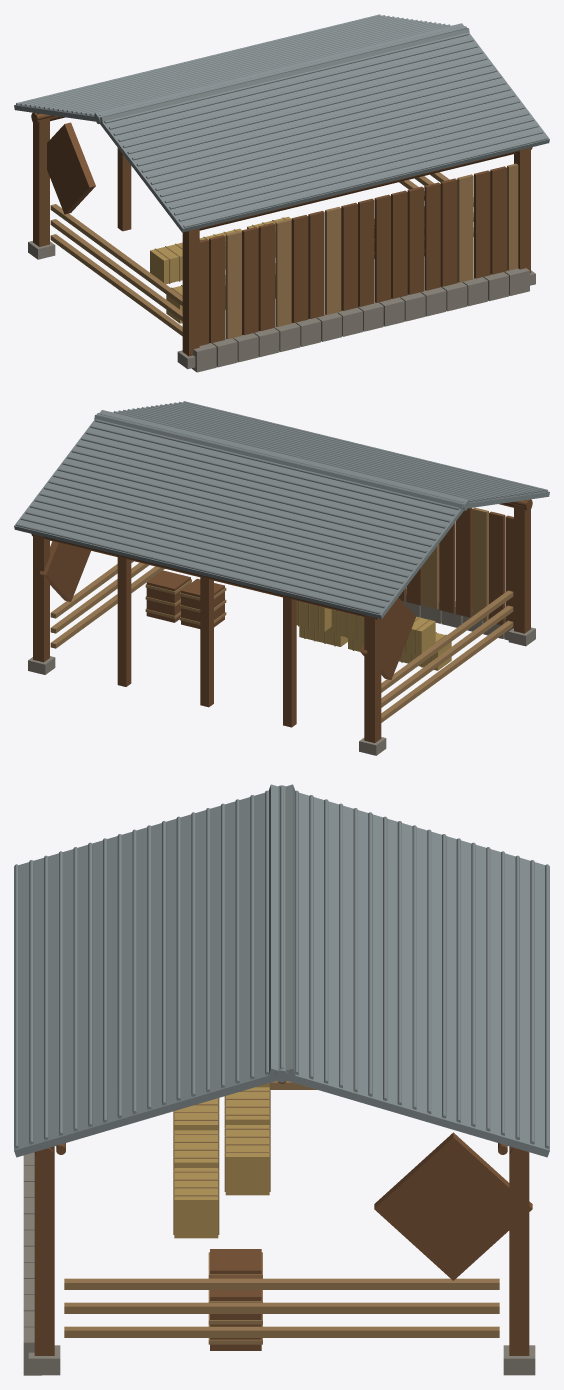
File: galpao.glb
The picture shows the model from 3 angles, top to bottom: view 1: azimuth 30°, elevation 25°; view 2: azimuth 150°, elevation 25°; view 3: azimuth 270°, elevation 25°; orthographic projection. The views are drawn at different scales.
Parts seen in each view (by area): view 1: Painel de cobertura metálica, Mão francesa, Painel de cobertura metálica.001, Pilar estrutural do galpão, Pilar estrutural do galpão.001, Tábua vertical do fundo.015, Tábua vertical do fundo.006, Tábua vertical do fundo.018, Tábua vertical do fundo.010, Tábua vertical do fundo.002, Tábua vertical do fundo.013, Tábua vertical do fundo.003 (+72 smaller); view 2: Painel de cobertura metálica.001, Painel de cobertura metálica, Pilar estrutural do galpão.001, Pilar estrutural do galpão, Pilar estrutural do galpão.003, Pilar frontal.002, Mão francesa, Mão francesa.001, Pilar frontal.001, Pilar frontal, Tábua vertical do fundo.002, Tábua vertical do fundo.003 (+55 smaller); view 3: Painel de cobertura metálica, Painel de cobertura metálica.001, Mão francesa.001, Ripa lateral.003, Ripa lateral.004, Ripa lateral.005, Pilar estrutural do galpão.002, Pilar estrutural do galpão.003, Fardo de feno.002, Fardo de feno.005, Caixa de madeira.001, Fardo de feno.001 (+43 smaller).
Part boxes in pixels (x1,y1,x2,y2): Painel de cobertura metálica: (94, 23, 549, 232); Mão francesa: (47, 122, 95, 214); Painel de cobertura metálica.001: (14, 16, 469, 122); Pilar estrutural do galpão: (182, 228, 199, 356); Pilar estrutural do galpão.001: (33, 113, 49, 246); Tábua vertical do fundo.015: (440, 178, 457, 287); Tábua vertical do fundo.006: (291, 215, 308, 323); Tábua vertical do fundo.018: (490, 166, 506, 274); Tábua vertical do fundo.010: (358, 198, 374, 307); Tábua vertical do fundo.002: (225, 231, 241, 339); Tábua vertical do fundo.013: (407, 186, 423, 294); Tábua vertical do fundo.003: (242, 227, 258, 335); Painel de cobertura metálica.001: (14, 410, 469, 619); Painel de cobertura metálica: (94, 403, 549, 509); Pilar estrutural do galpão.001: (364, 615, 381, 742); Pilar estrutural do galpão: (514, 500, 530, 633); Pilar estrutural do galpão.003: (33, 534, 49, 662); Pilar frontal.002: (117, 556, 131, 686); Mão francesa: (360, 597, 415, 679); Mão francesa.001: (39, 541, 90, 601); Pilar frontal.001: (200, 576, 213, 707); Pilar frontal: (283, 597, 296, 727); Tábua vertical do fundo.002: (472, 507, 488, 621); Tábua vertical do fundo.003: (456, 508, 472, 617); Painel de cobertura metálica: (14, 784, 295, 1157); Painel de cobertura metálica.001: (268, 784, 549, 1157); Mão francesa.001: (374, 1132, 532, 1280); Ripa lateral.003: (64, 1326, 499, 1337); Ripa lateral.004: (64, 1302, 499, 1313); Ripa lateral.005: (64, 1278, 499, 1289); Pilar estrutural do galpão.002: (34, 1146, 54, 1355); Pilar estrutural do galpão.003: (509, 1146, 529, 1355); Fardo de feno.002: (174, 1168, 218, 1238); Fardo de feno.005: (225, 1125, 269, 1195); Caixa de madeira.001: (210, 1275, 261, 1350); Fardo de feno.001: (174, 1130, 218, 1167).
Bounding box in the file's own units: 10.24 × 5.36 × 8.13.
